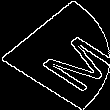M_NW: (7, 21, 103, 89)
